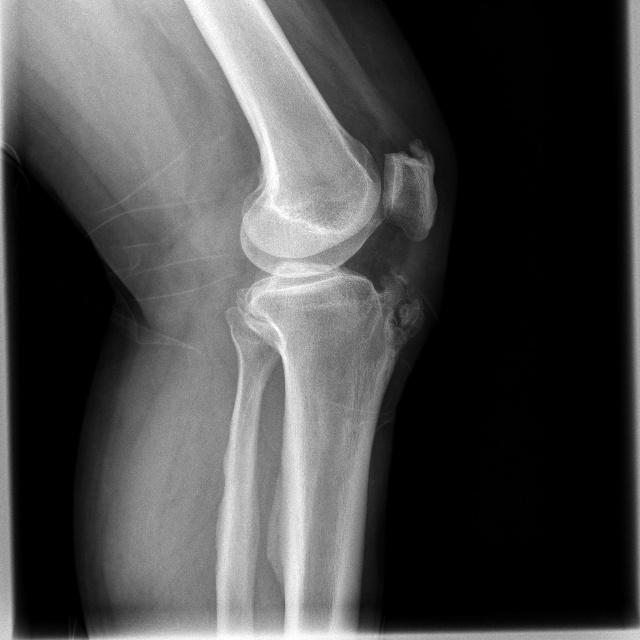Knee: (226, 137, 438, 367)
